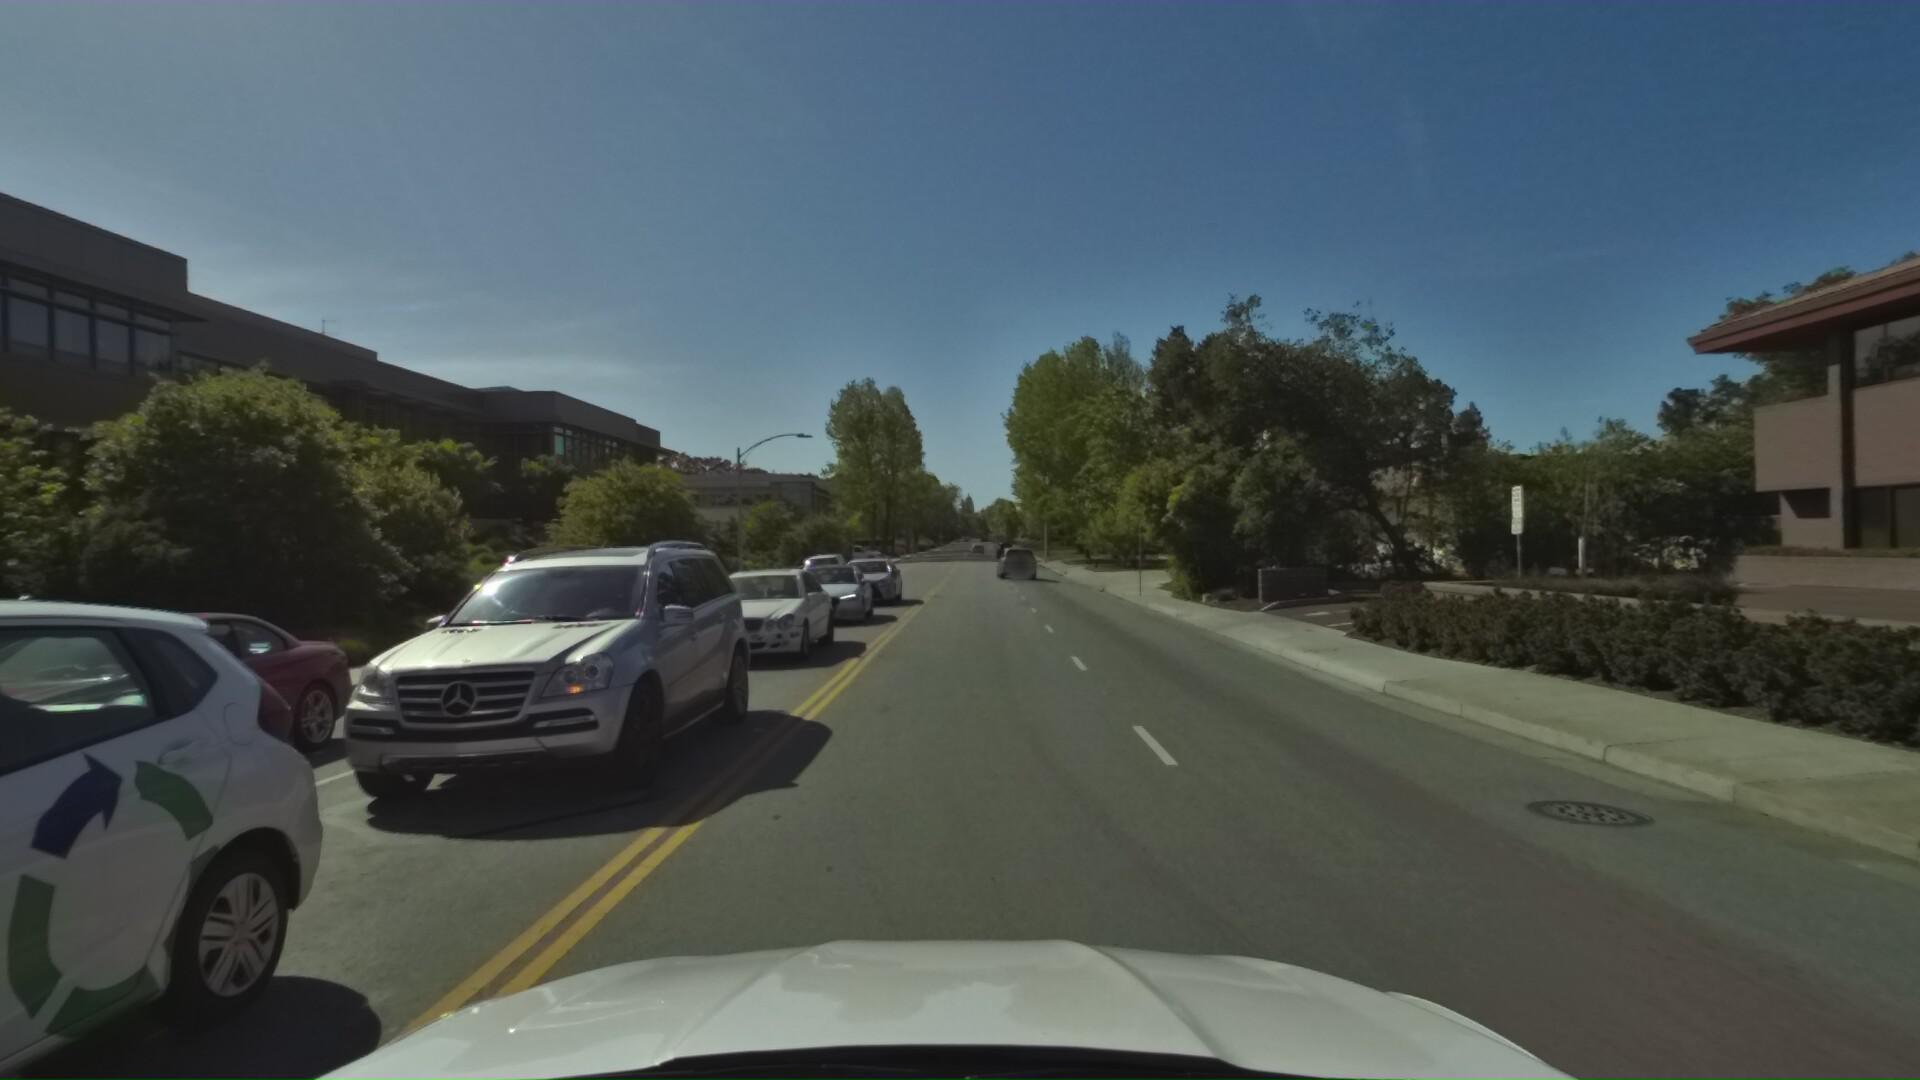car: (262, 531, 761, 869), (0, 597, 355, 915), (662, 559, 843, 680), (779, 555, 876, 632), (831, 553, 905, 608), (789, 547, 847, 591), (993, 541, 1034, 574)
